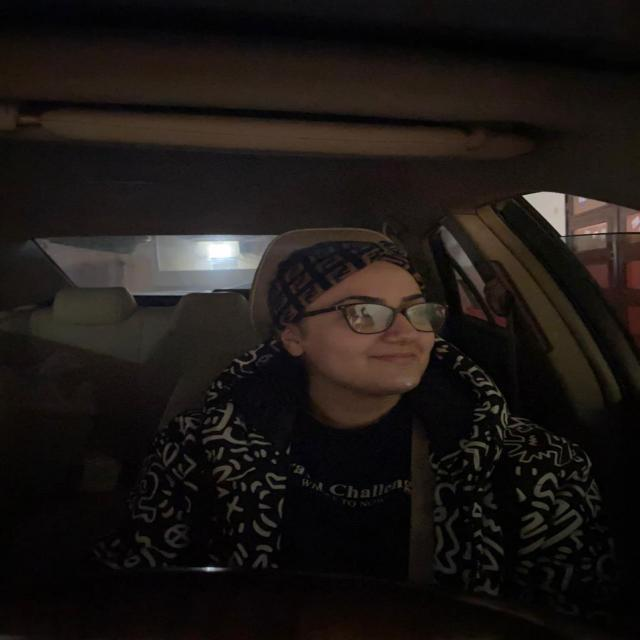LeftRight: (259, 234, 451, 395)
